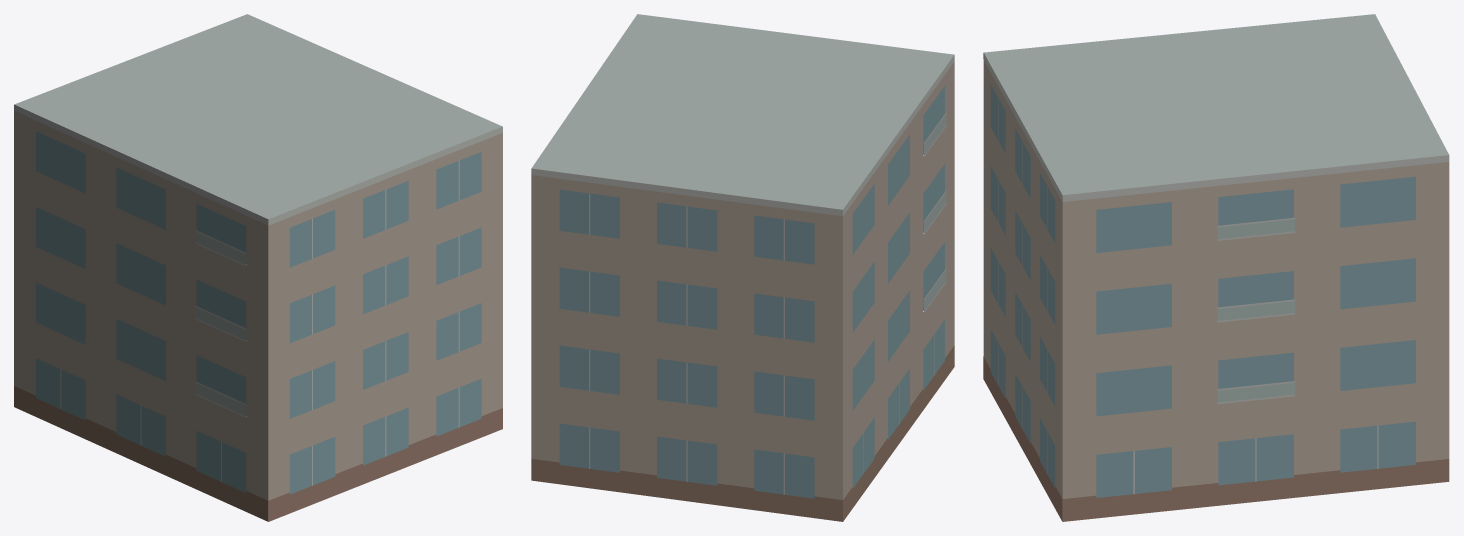
The model's file is survey-upis-32531597.glb.
The picture shows the model from 3 angles, left to right: view 1: azimuth 30°, elevation 25°; view 2: azimuth 150°, elevation 25°; view 3: azimuth 270°, elevation 25°; orthographic projection. The views are drawn at different scales.
Visible parts, largest first — view 1: survey-upis-32531597.tmp; view 2: survey-upis-32531597.tmp; view 3: survey-upis-32531597.tmp.
Boxes of the visible parts, <box> form: survey-upis-32531597.tmp: <box>14,14,502,521</box>; survey-upis-32531597.tmp: <box>531,14,954,521</box>; survey-upis-32531597.tmp: <box>983,14,1449,521</box>.
Size of the model in its own units: 13.99 by 11.75 by 15.2.
